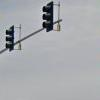traffic lights: (42, 5, 54, 30), (6, 26, 14, 54)
